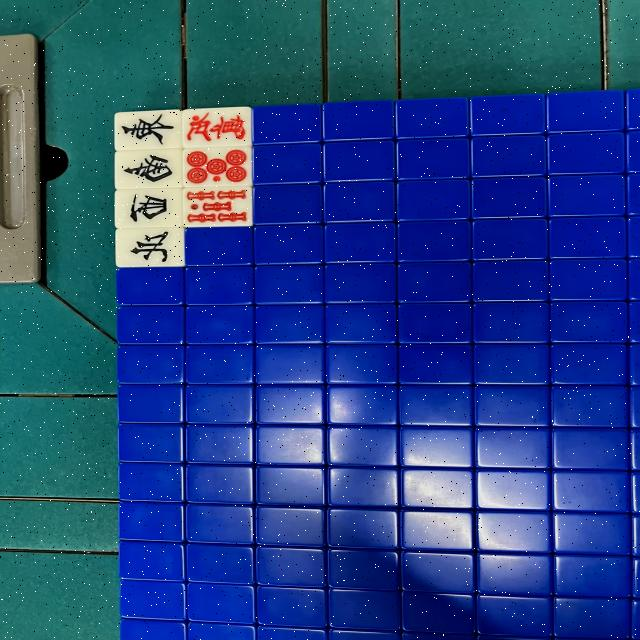bamboos_5: (184, 187, 252, 228)
characters_5: (182, 106, 251, 148)
circles_5: (184, 148, 251, 188)
east: (114, 109, 182, 150)
north: (115, 228, 184, 267)
south: (115, 148, 182, 190)
west: (115, 189, 182, 228)
